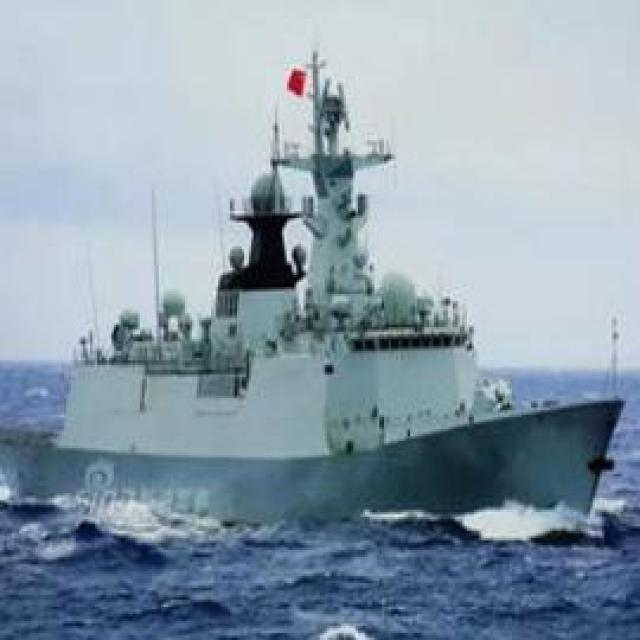navalvessels: (0, 48, 626, 519)
